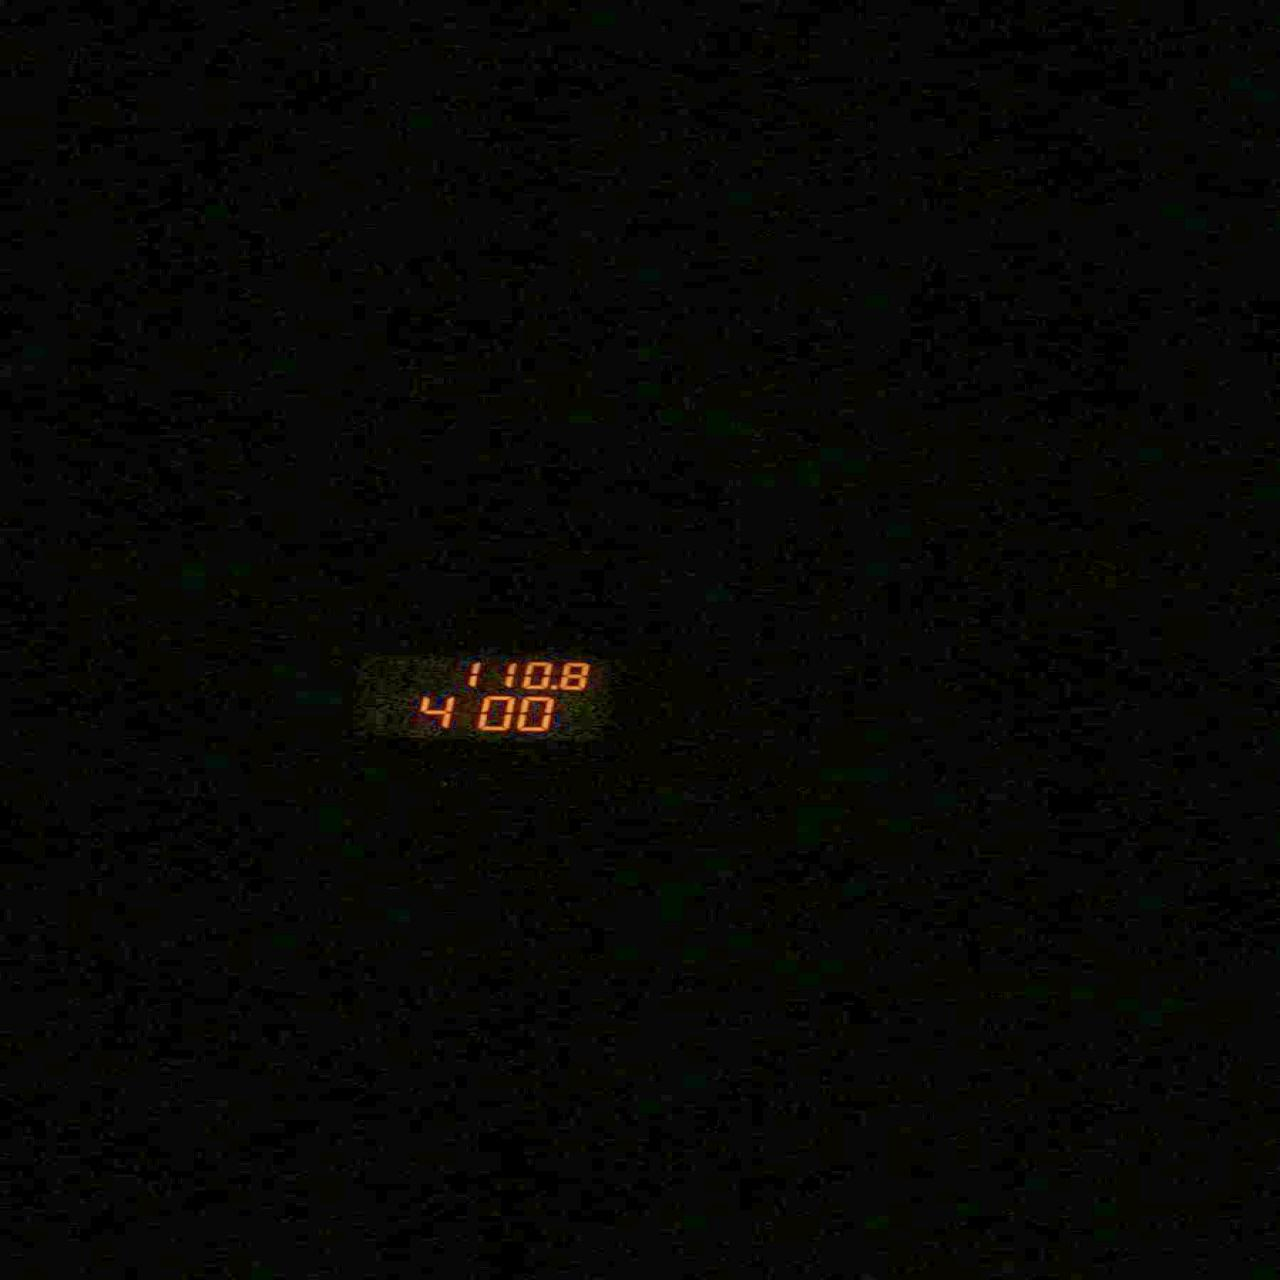-: (549, 685, 558, 689)
0: (513, 695, 556, 731), (476, 694, 516, 731), (519, 660, 552, 689)
1: (465, 661, 482, 688), (503, 662, 517, 687)
4: (415, 695, 456, 728)
8: (557, 661, 590, 690)
odometer: (359, 652, 613, 743)
